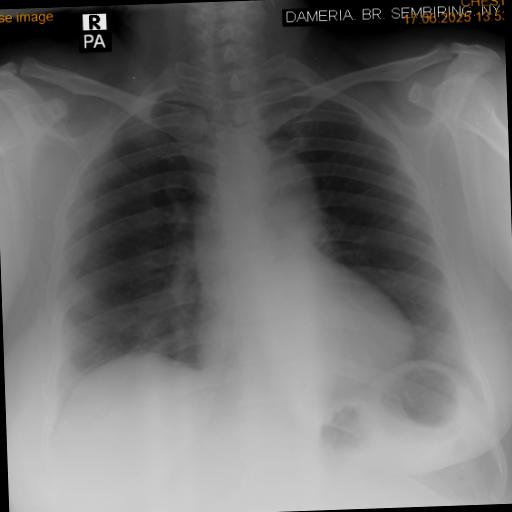kardiomegali: (16, 52, 498, 440)
